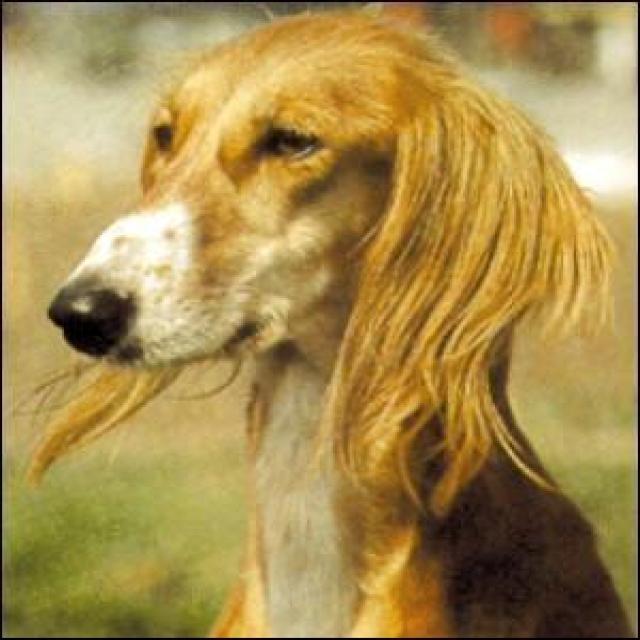saluki: (13, 10, 638, 638)
